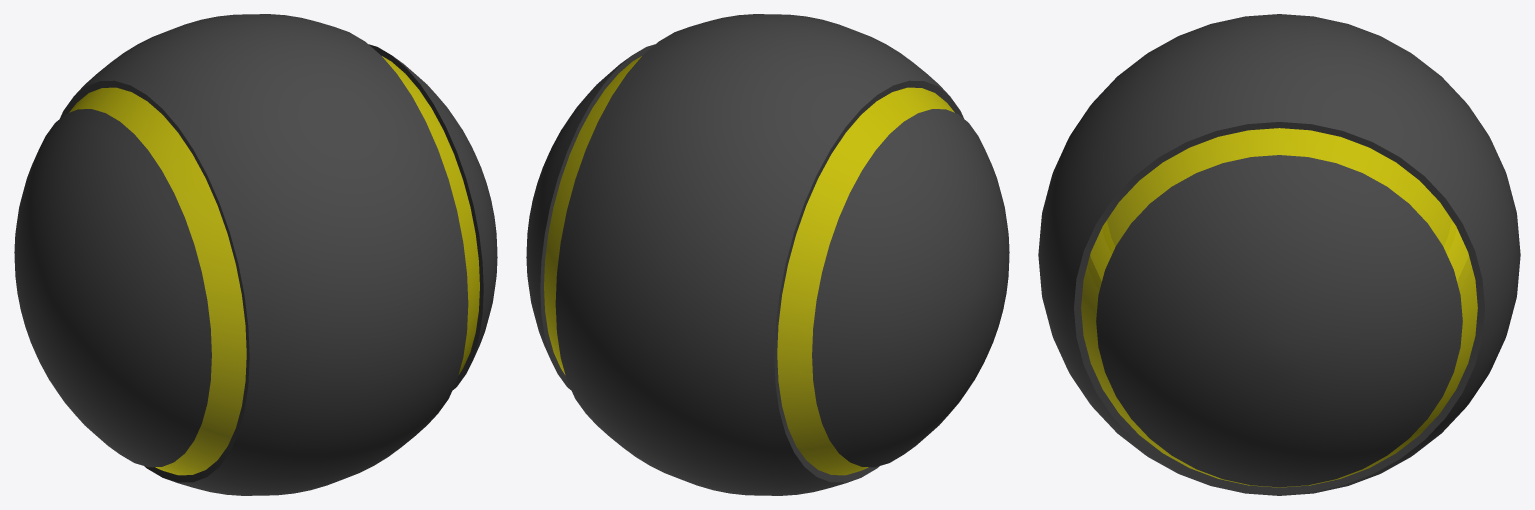
File: yellow_orb.fbx
The picture shows the model from 3 angles, left to right: view 1: azimuth 30°, elevation 25°; view 2: azimuth 150°, elevation 25°; view 3: azimuth 270°, elevation 25°; orthographic projection.
Parts seen in each view (by area): view 1: yellow_orb; view 2: yellow_orb; view 3: yellow_orb.
Boxes of the visible parts, x1=… form: yellow_orb: x1=14, y1=14, x2=497, y2=495; yellow_orb: x1=526, y1=14, x2=1009, y2=495; yellow_orb: x1=1038, y1=14, x2=1520, y2=495.
Bounding box in the file's own units: 2.1 × 2.1 × 2.1.
